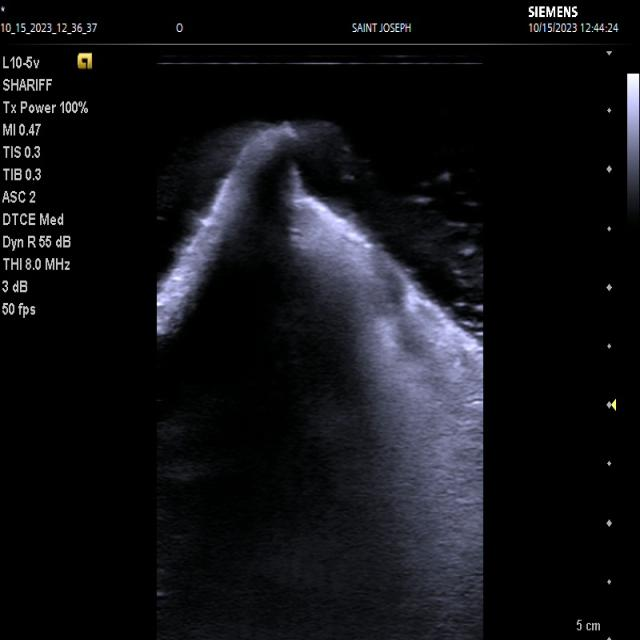tissue: (157, 132, 483, 640)
